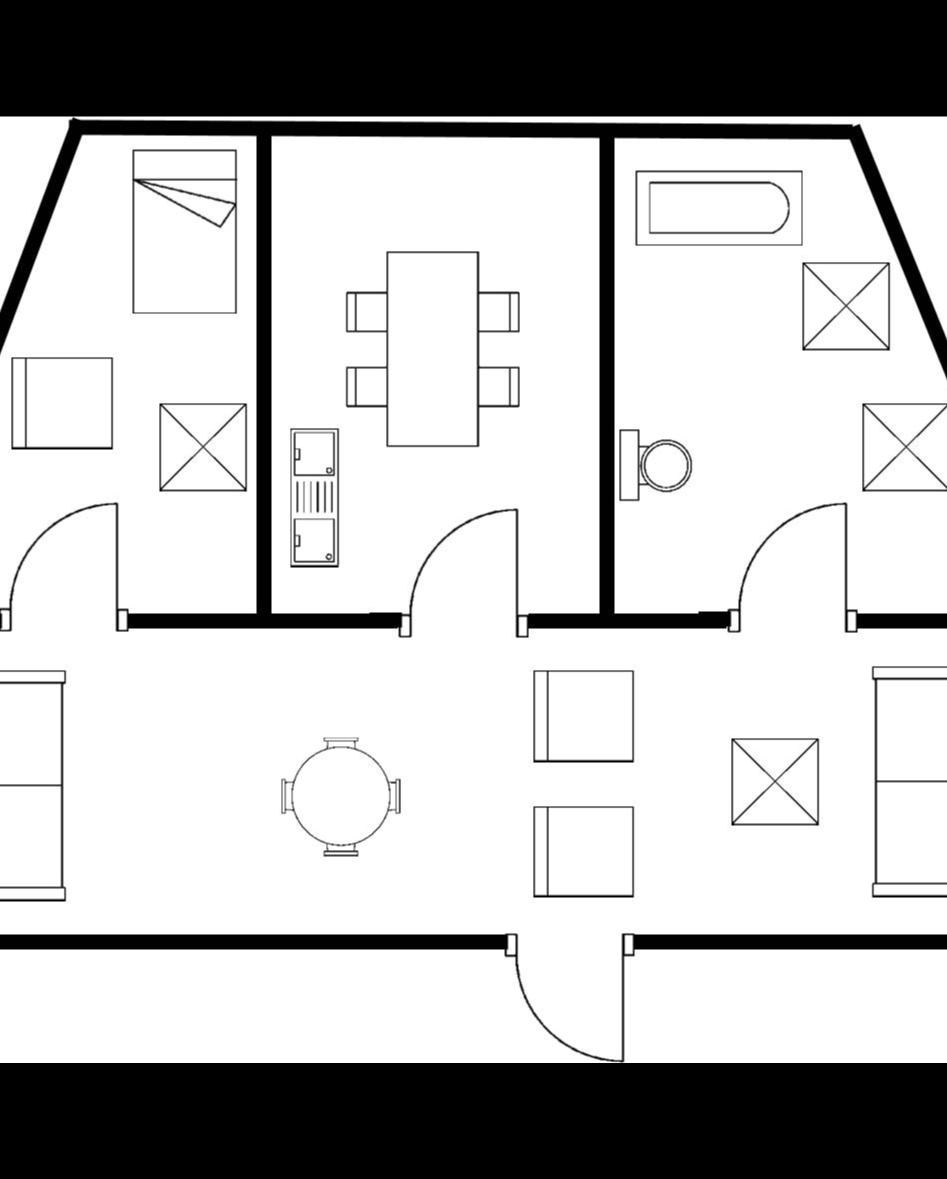sink: (283, 423, 348, 581)
